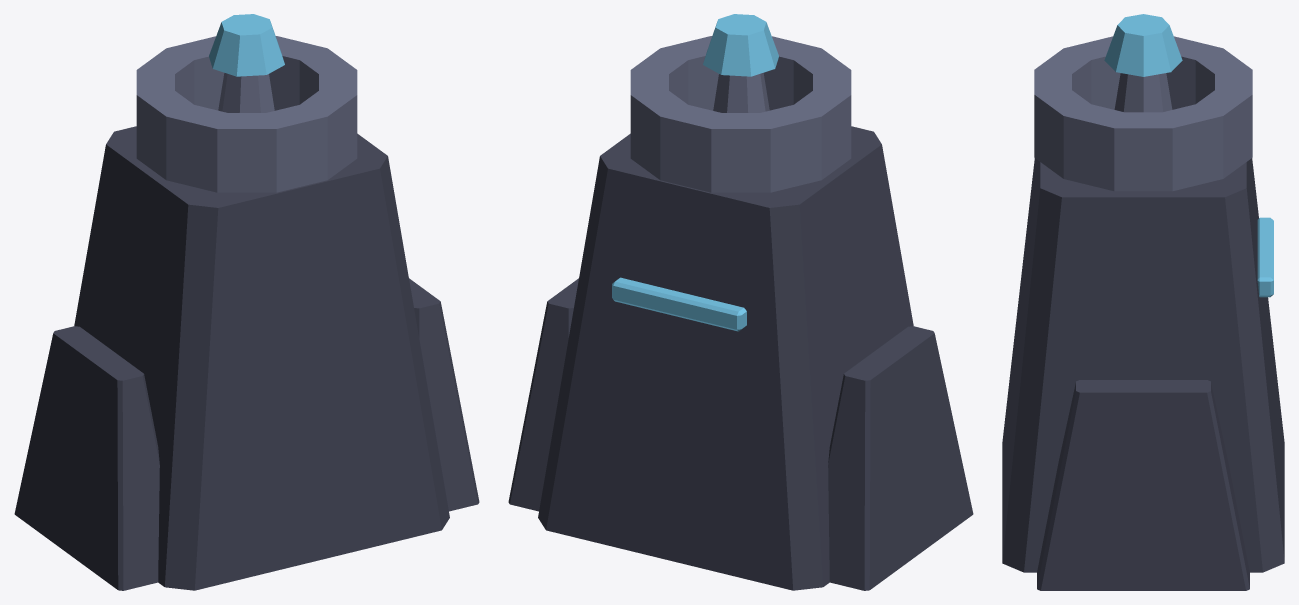
File: FloodTurbinePylon.fbx
3 renders of one model, left to right at view 1: azimuth 30°, elevation 25°; view 2: azimuth 150°, elevation 25°; view 3: azimuth 270°, elevation 25°, orthographic.
Parts seen in each view (by area): view 1: Storm_Pylon, Storm_TurbineShroud, Storm_WarningCap; view 2: Storm_Pylon, Storm_TurbineShroud, Storm_WarningCap; view 3: Storm_Pylon, Storm_TurbineShroud, Storm_WarningCap.
Boxes of the visible parts, x1,y1,x2,y2 form: Storm_Pylon: (14,126,479,590); Storm_TurbineShroud: (136,36,357,192); Storm_WarningCap: (209,14,284,76); Storm_Pylon: (508,126,973,590); Storm_TurbineShroud: (630,36,851,192); Storm_WarningCap: (612,14,778,331); Storm_Pylon: (1002,158,1284,590); Storm_TurbineShroud: (1034,36,1252,191); Storm_WarningCap: (1104,14,1273,297).
Bounding box in the file's own units: 1.9 × 2.43 × 1.3.
